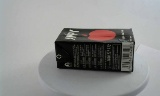appy: (50, 26, 127, 72)
